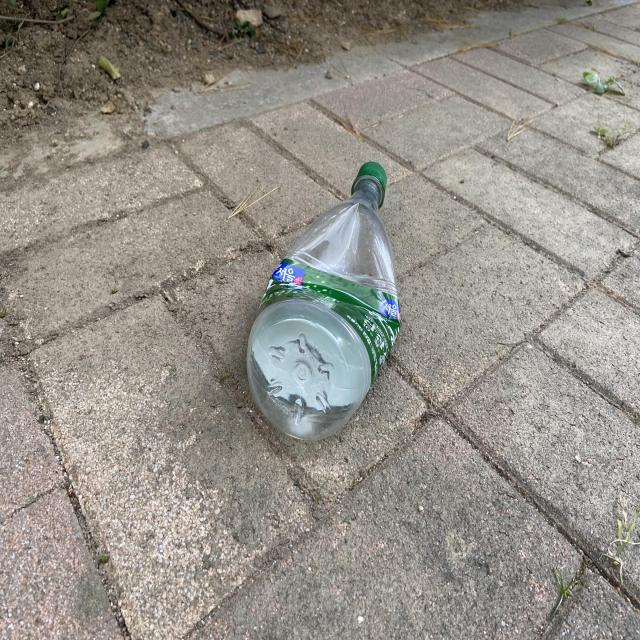plastic: (247, 161, 401, 439)
